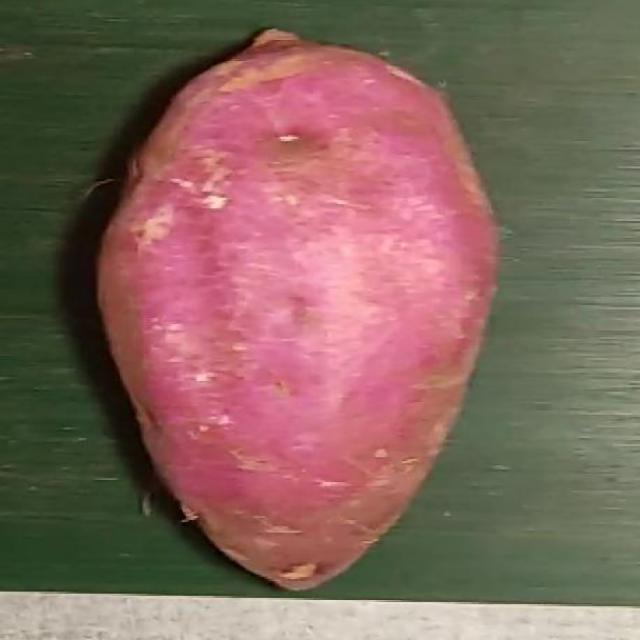Sweet Potato: (95, 28, 500, 593)
